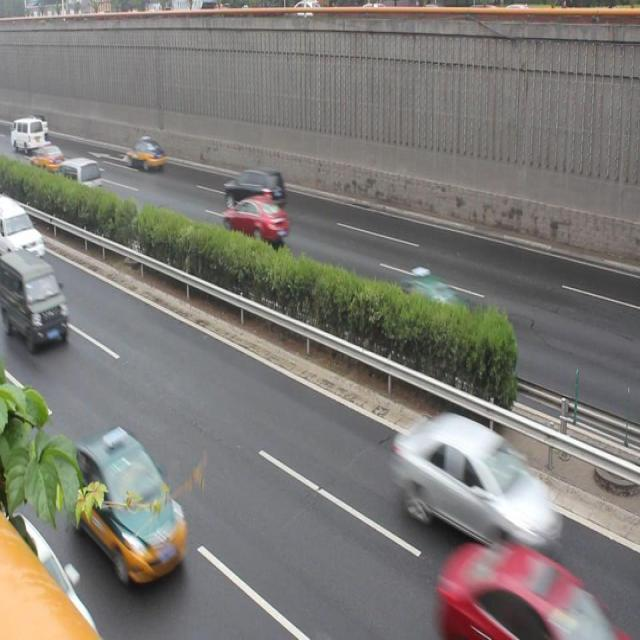car: (390, 406, 562, 554), (443, 533, 620, 640), (72, 429, 190, 577), (382, 259, 467, 336), (222, 192, 293, 250), (221, 162, 284, 208)
truck: (1, 247, 72, 342)
